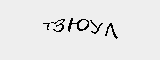З: (118, 22, 134, 45)
К: (53, 16, 78, 39)
У: (99, 18, 117, 44)
Ч: (23, 15, 41, 32)
Я: (76, 20, 103, 42)
Ғ: (37, 15, 53, 37)
